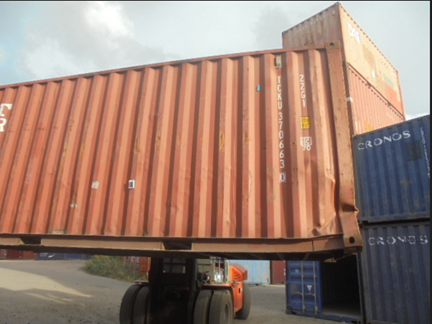bulged: (307, 153, 343, 199), (295, 214, 338, 242)
dented: (330, 198, 361, 236)
